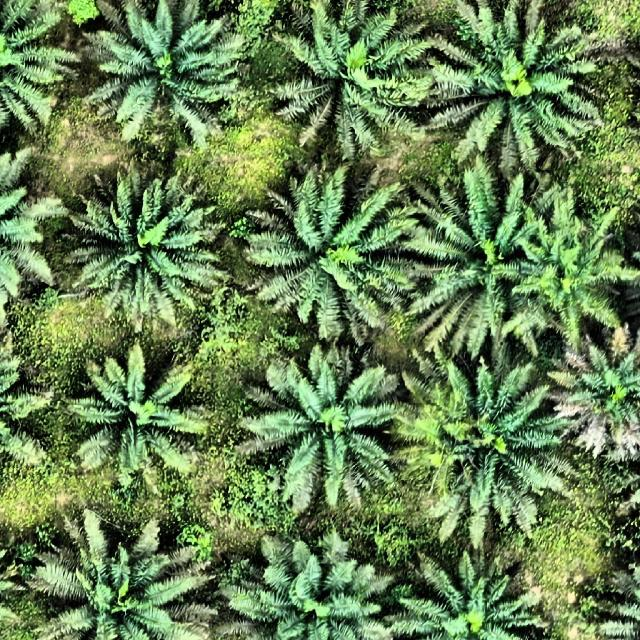Kelapa_Sawit: (412, 372, 580, 537), (396, 185, 556, 348), (250, 174, 408, 332), (250, 351, 403, 511), (70, 172, 220, 319), (442, 20, 602, 153), (82, 9, 245, 139), (38, 522, 202, 640), (72, 356, 206, 483), (288, 18, 420, 146), (520, 204, 630, 338), (548, 310, 640, 470), (0, 0, 58, 138), (0, 154, 45, 314)
